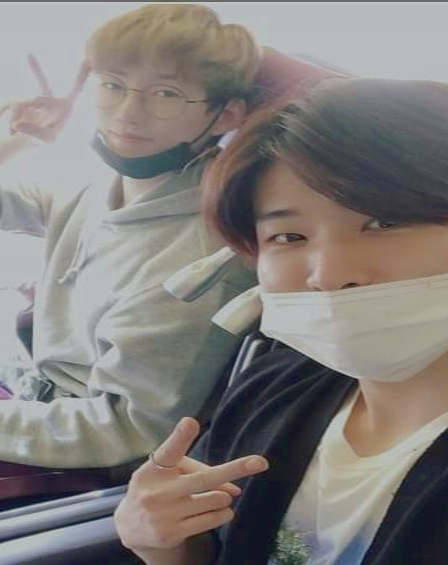mask_weared_incorrect: (228, 79, 448, 386), (76, 5, 256, 180)
